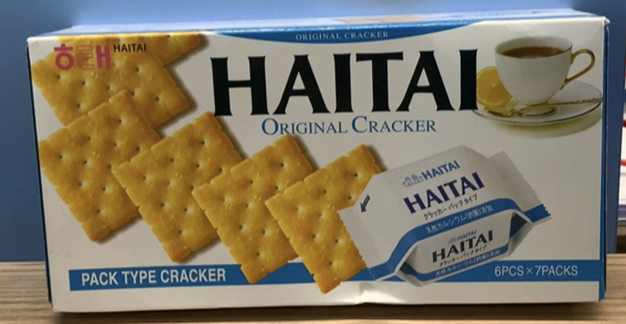crackers_150g: (51, 38, 597, 284)
